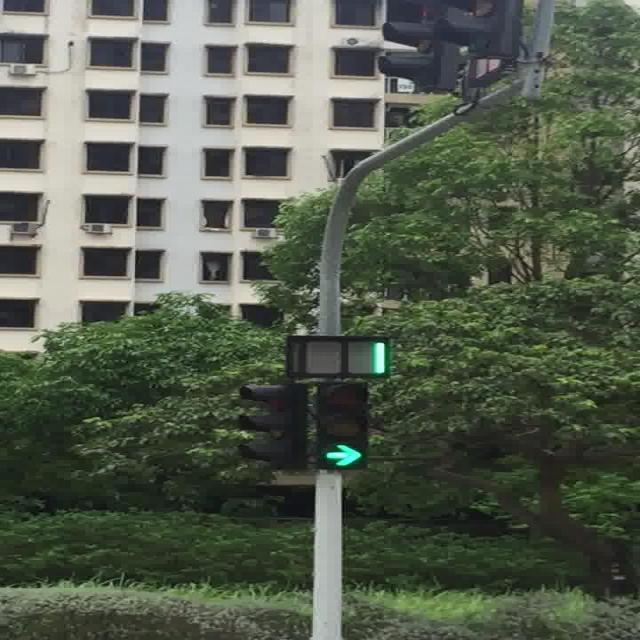traffic light: (378, 0, 525, 93), (380, 0, 525, 59), (238, 383, 307, 471), (315, 381, 369, 471), (286, 335, 391, 380)
